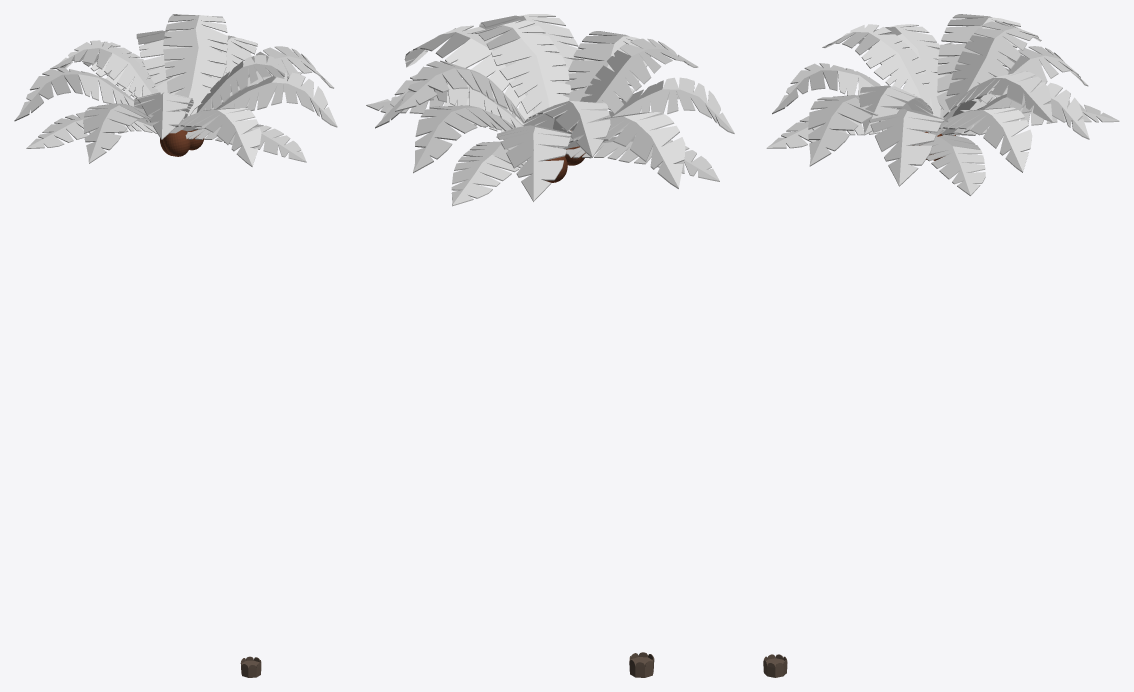
Rendered from palm-tree-test.glb.
The picture shows the model from 3 angles, left to right: view 1: azimuth 30°, elevation 25°; view 2: azimuth 150°, elevation 25°; view 3: azimuth 270°, elevation 25°; orthographic projection. The views are drawn at different scales.
Visible parts, largest first — view 1: leaves, noix de coco; view 2: leaves, tronc; view 3: leaves.
Part boxes in pixels (x1,y1,x2,y2): leaves: (14, 14, 337, 166); noix de coco: (164, 130, 190, 156); leaves: (366, 14, 734, 206); tronc: (629, 652, 654, 677); leaves: (766, 14, 1119, 195).
Size of the model in its own units: 15.7 by 29.78 by 15.45.
